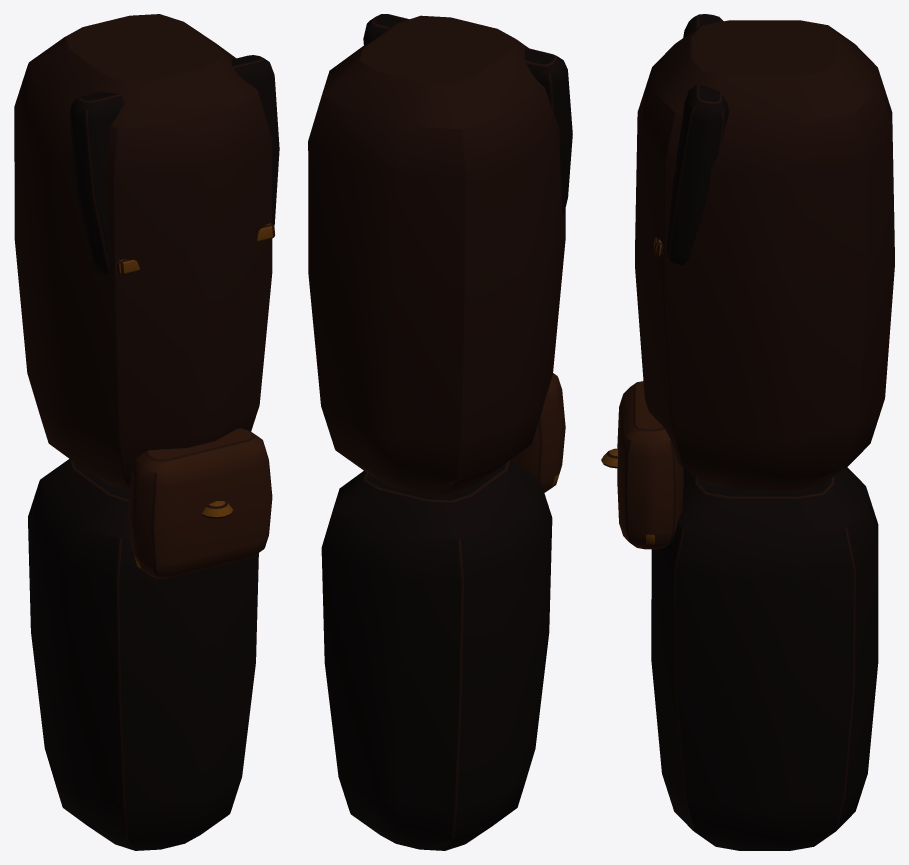
File: Couro_CalcaL.fbx
The picture shows the model from 3 angles, left to right: view 1: azimuth 30°, elevation 25°; view 2: azimuth 150°, elevation 25°; view 3: azimuth 270°, elevation 25°; orthographic projection.
Visible parts, largest first — view 1: Piece; view 2: Piece; view 3: Piece.
Part boxes in pixels (<box>): Piece: <box>14,14,279,850</box>; Piece: <box>308,14,572,850</box>; Piece: <box>601,14,894,850</box>.
Size of the model in its own units: 0.2095 by 0.7561 by 0.2567.
